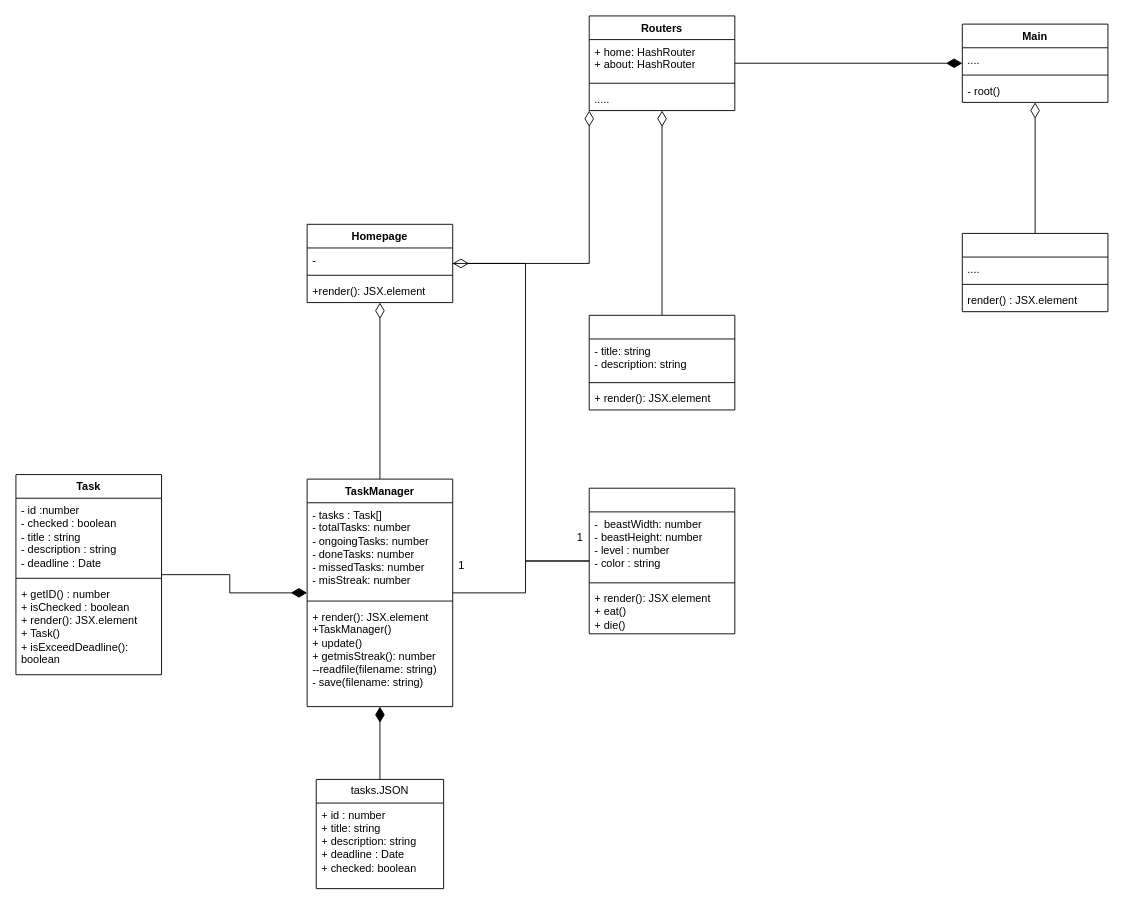
Some shapes in this 1124 by 907 pixel diagram are drawn without their labels. Each missing label, with the box of its shape:
AboutPage: (588, 314, 735, 410)
NavBar: (961, 233, 1108, 312)
StudyBeast: (588, 487, 735, 634)
